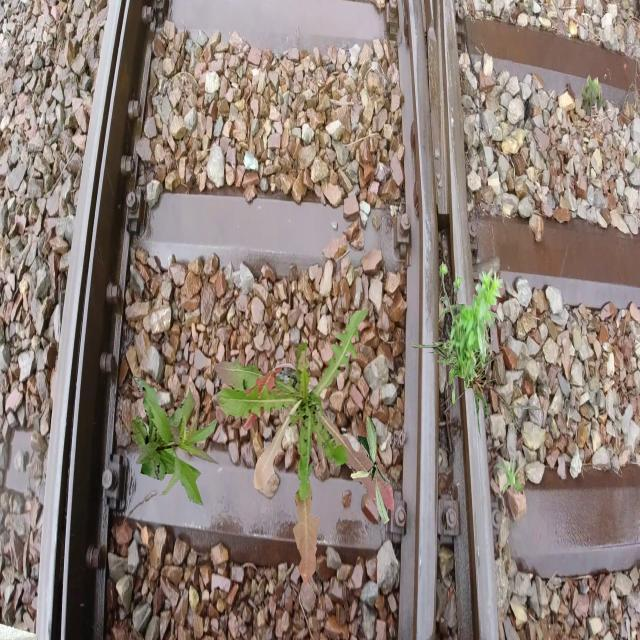Plant: (215, 308, 395, 586), (398, 321, 542, 441), (131, 376, 220, 506), (439, 261, 504, 404), (351, 415, 391, 525), (469, 290, 496, 346), (494, 450, 526, 496), (581, 74, 607, 116)
